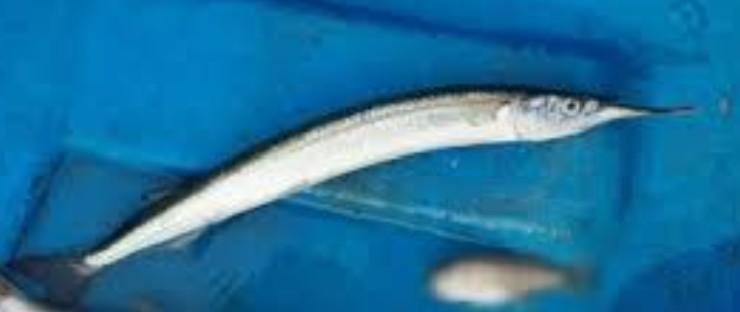fish: (4, 84, 697, 307)
